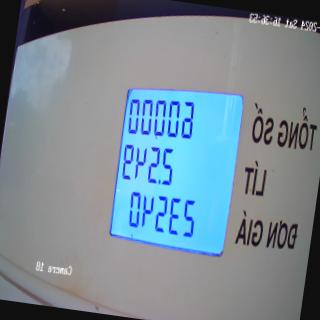screen: (103, 71, 249, 258)
